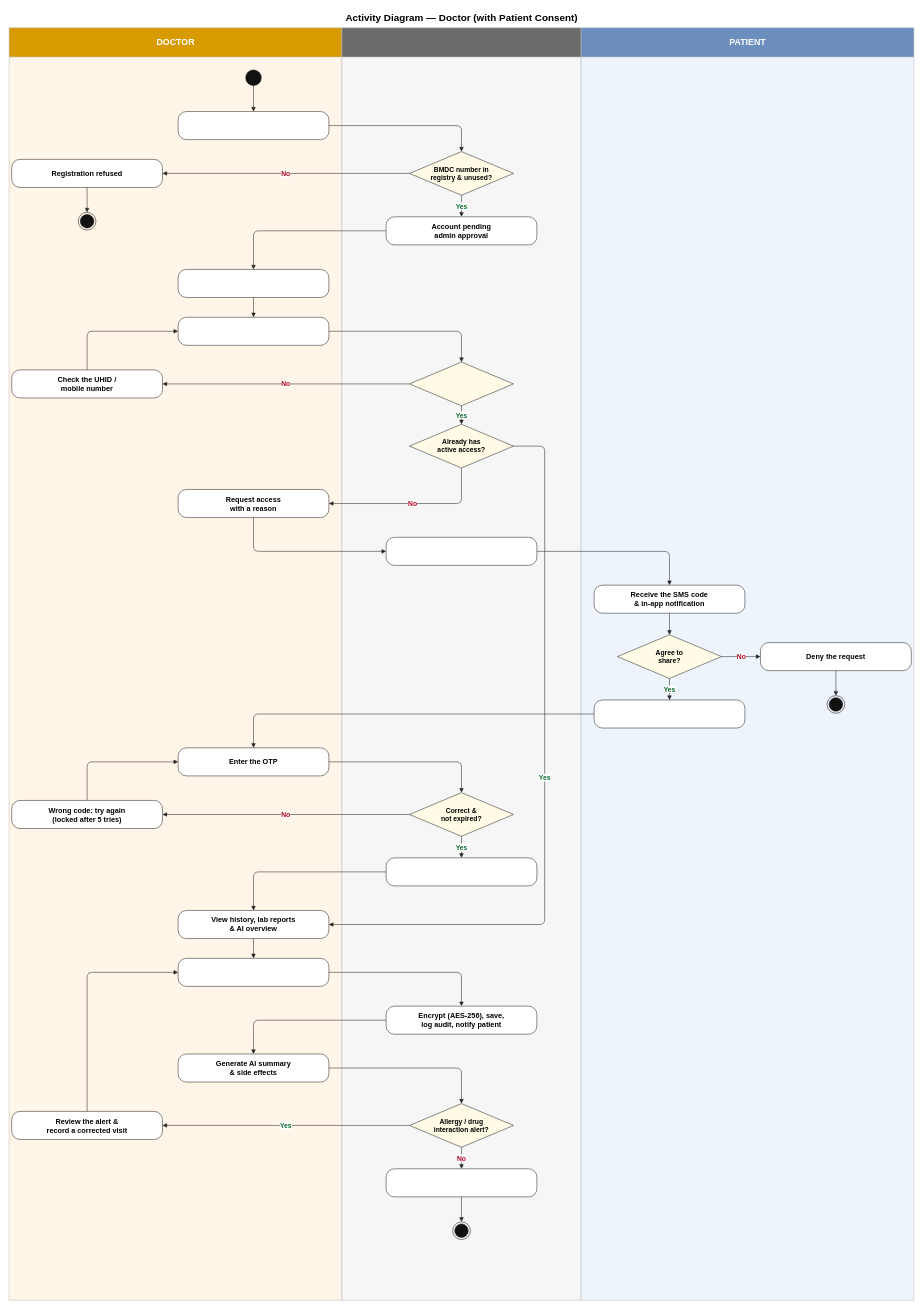
This 923x1309 diagram has some shape labels left out. The shapes that lost their labels are listed below. From the top down, each one's box as (x1, y1, x2, y2) in pixels, then its label:
(178, 111, 329, 140): Register with BMDC number
(178, 269, 329, 297): Log in after admin approval
(178, 317, 329, 345): Search patient (UHID / mobile)
(409, 362, 514, 406): Patient found?
(386, 537, 537, 565): Create OTP (valid 5 min), SMS it & notify patient
(341, 27, 581, 1300): HEALTHNEXUS BD SYSTEM
(594, 699, 745, 728): Tell the doctor the code
(386, 857, 537, 886): Open 30-min session, log audit, notify patient
(178, 958, 329, 986): Record visit & write prescription
(386, 1168, 537, 1197): Session ends (after 30 min or patient revokes)
